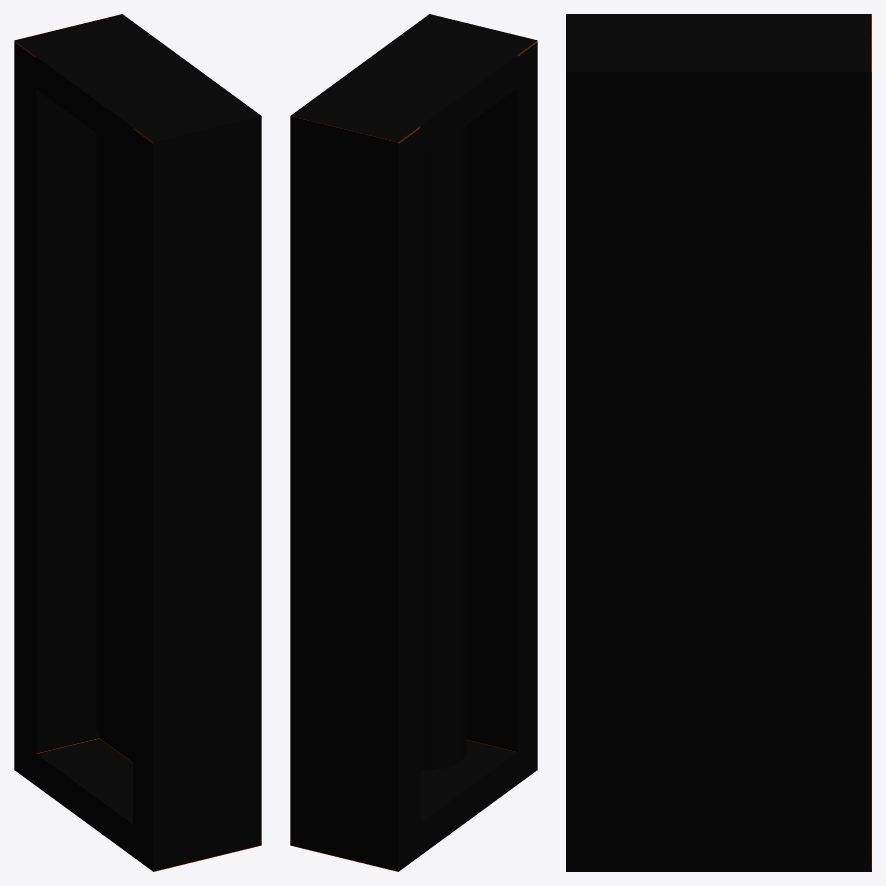
The model's file is thermometer.obj.
3 renders of one model, left to right at view 1: azimuth 30°, elevation 25°; view 2: azimuth 150°, elevation 25°; view 3: azimuth 270°, elevation 25°, orthographic. The views are drawn at different scales.
Visible parts, largest first — view 1: Cube; view 2: Cube; view 3: Cube.
Part boxes in pixels (x1,y1,x2,y2): Cube: (14,14,261,871); Cube: (290,14,537,871); Cube: (566,14,871,871).
Size of the model in its own units: 0.1226 by 0.7895 by 0.2734.
